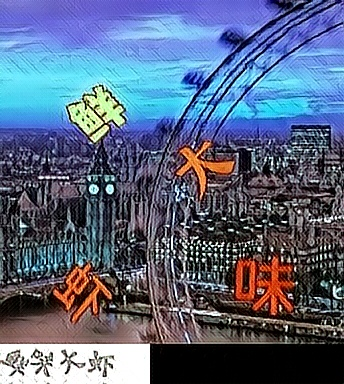B4F3: (173, 140, 238, 204)
CEB6: (232, 252, 297, 316)
CFBA: (48, 261, 113, 325)
CFCA: (64, 79, 129, 143)
